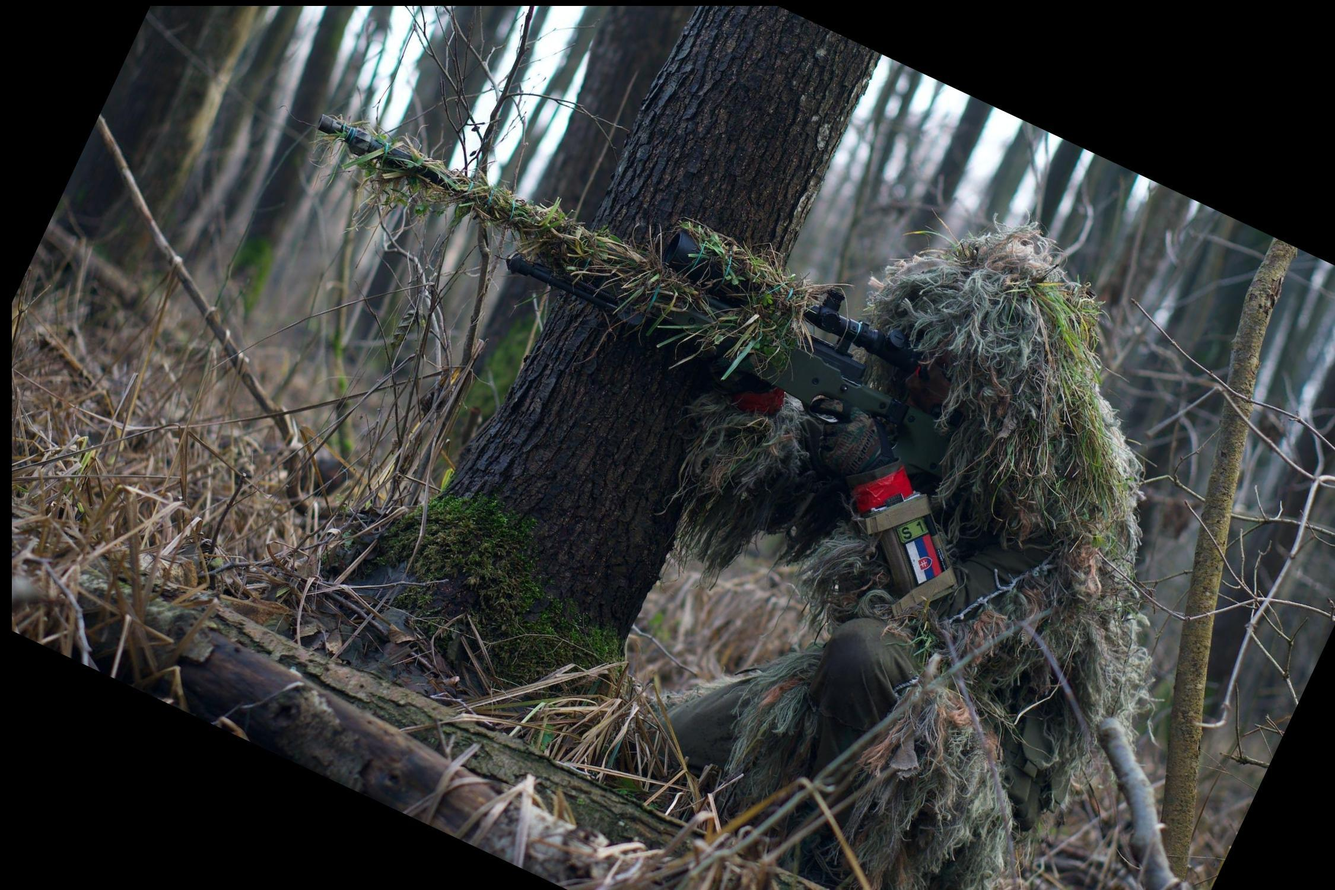larga: (319, 111, 955, 484)
